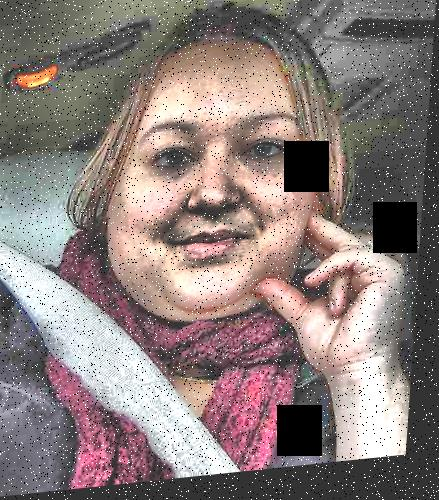seatbelt: (0, 203, 233, 480)
